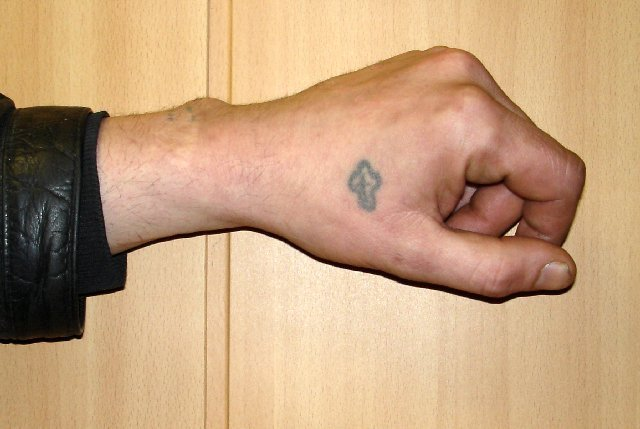tatu9_krest: (340, 159, 396, 217)
